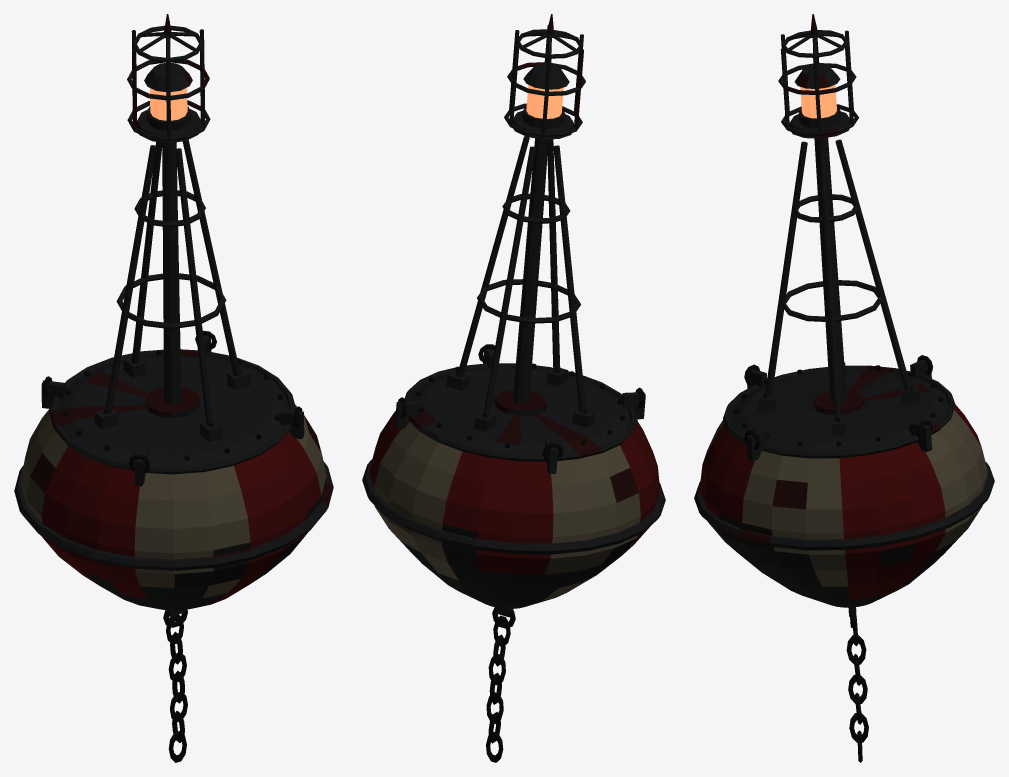
File: navigation_buoy.fbx
The picture shows the model from 3 angles, left to right: view 1: azimuth 30°, elevation 25°; view 2: azimuth 150°, elevation 25°; view 3: azimuth 270°, elevation 25°; orthographic projection. The views are drawn at different scales.
Parts seen in each view (by area): view 1: MaritimeNavigationBuoy; view 2: MaritimeNavigationBuoy; view 3: MaritimeNavigationBuoy.
Part boxes in pixels (x1,y1,x2,y2): MaritimeNavigationBuoy: (14, 14, 333, 762); MaritimeNavigationBuoy: (362, 14, 665, 762); MaritimeNavigationBuoy: (694, 14, 994, 762).
Bounding box in the file's own units: 150 × 403 × 150.
